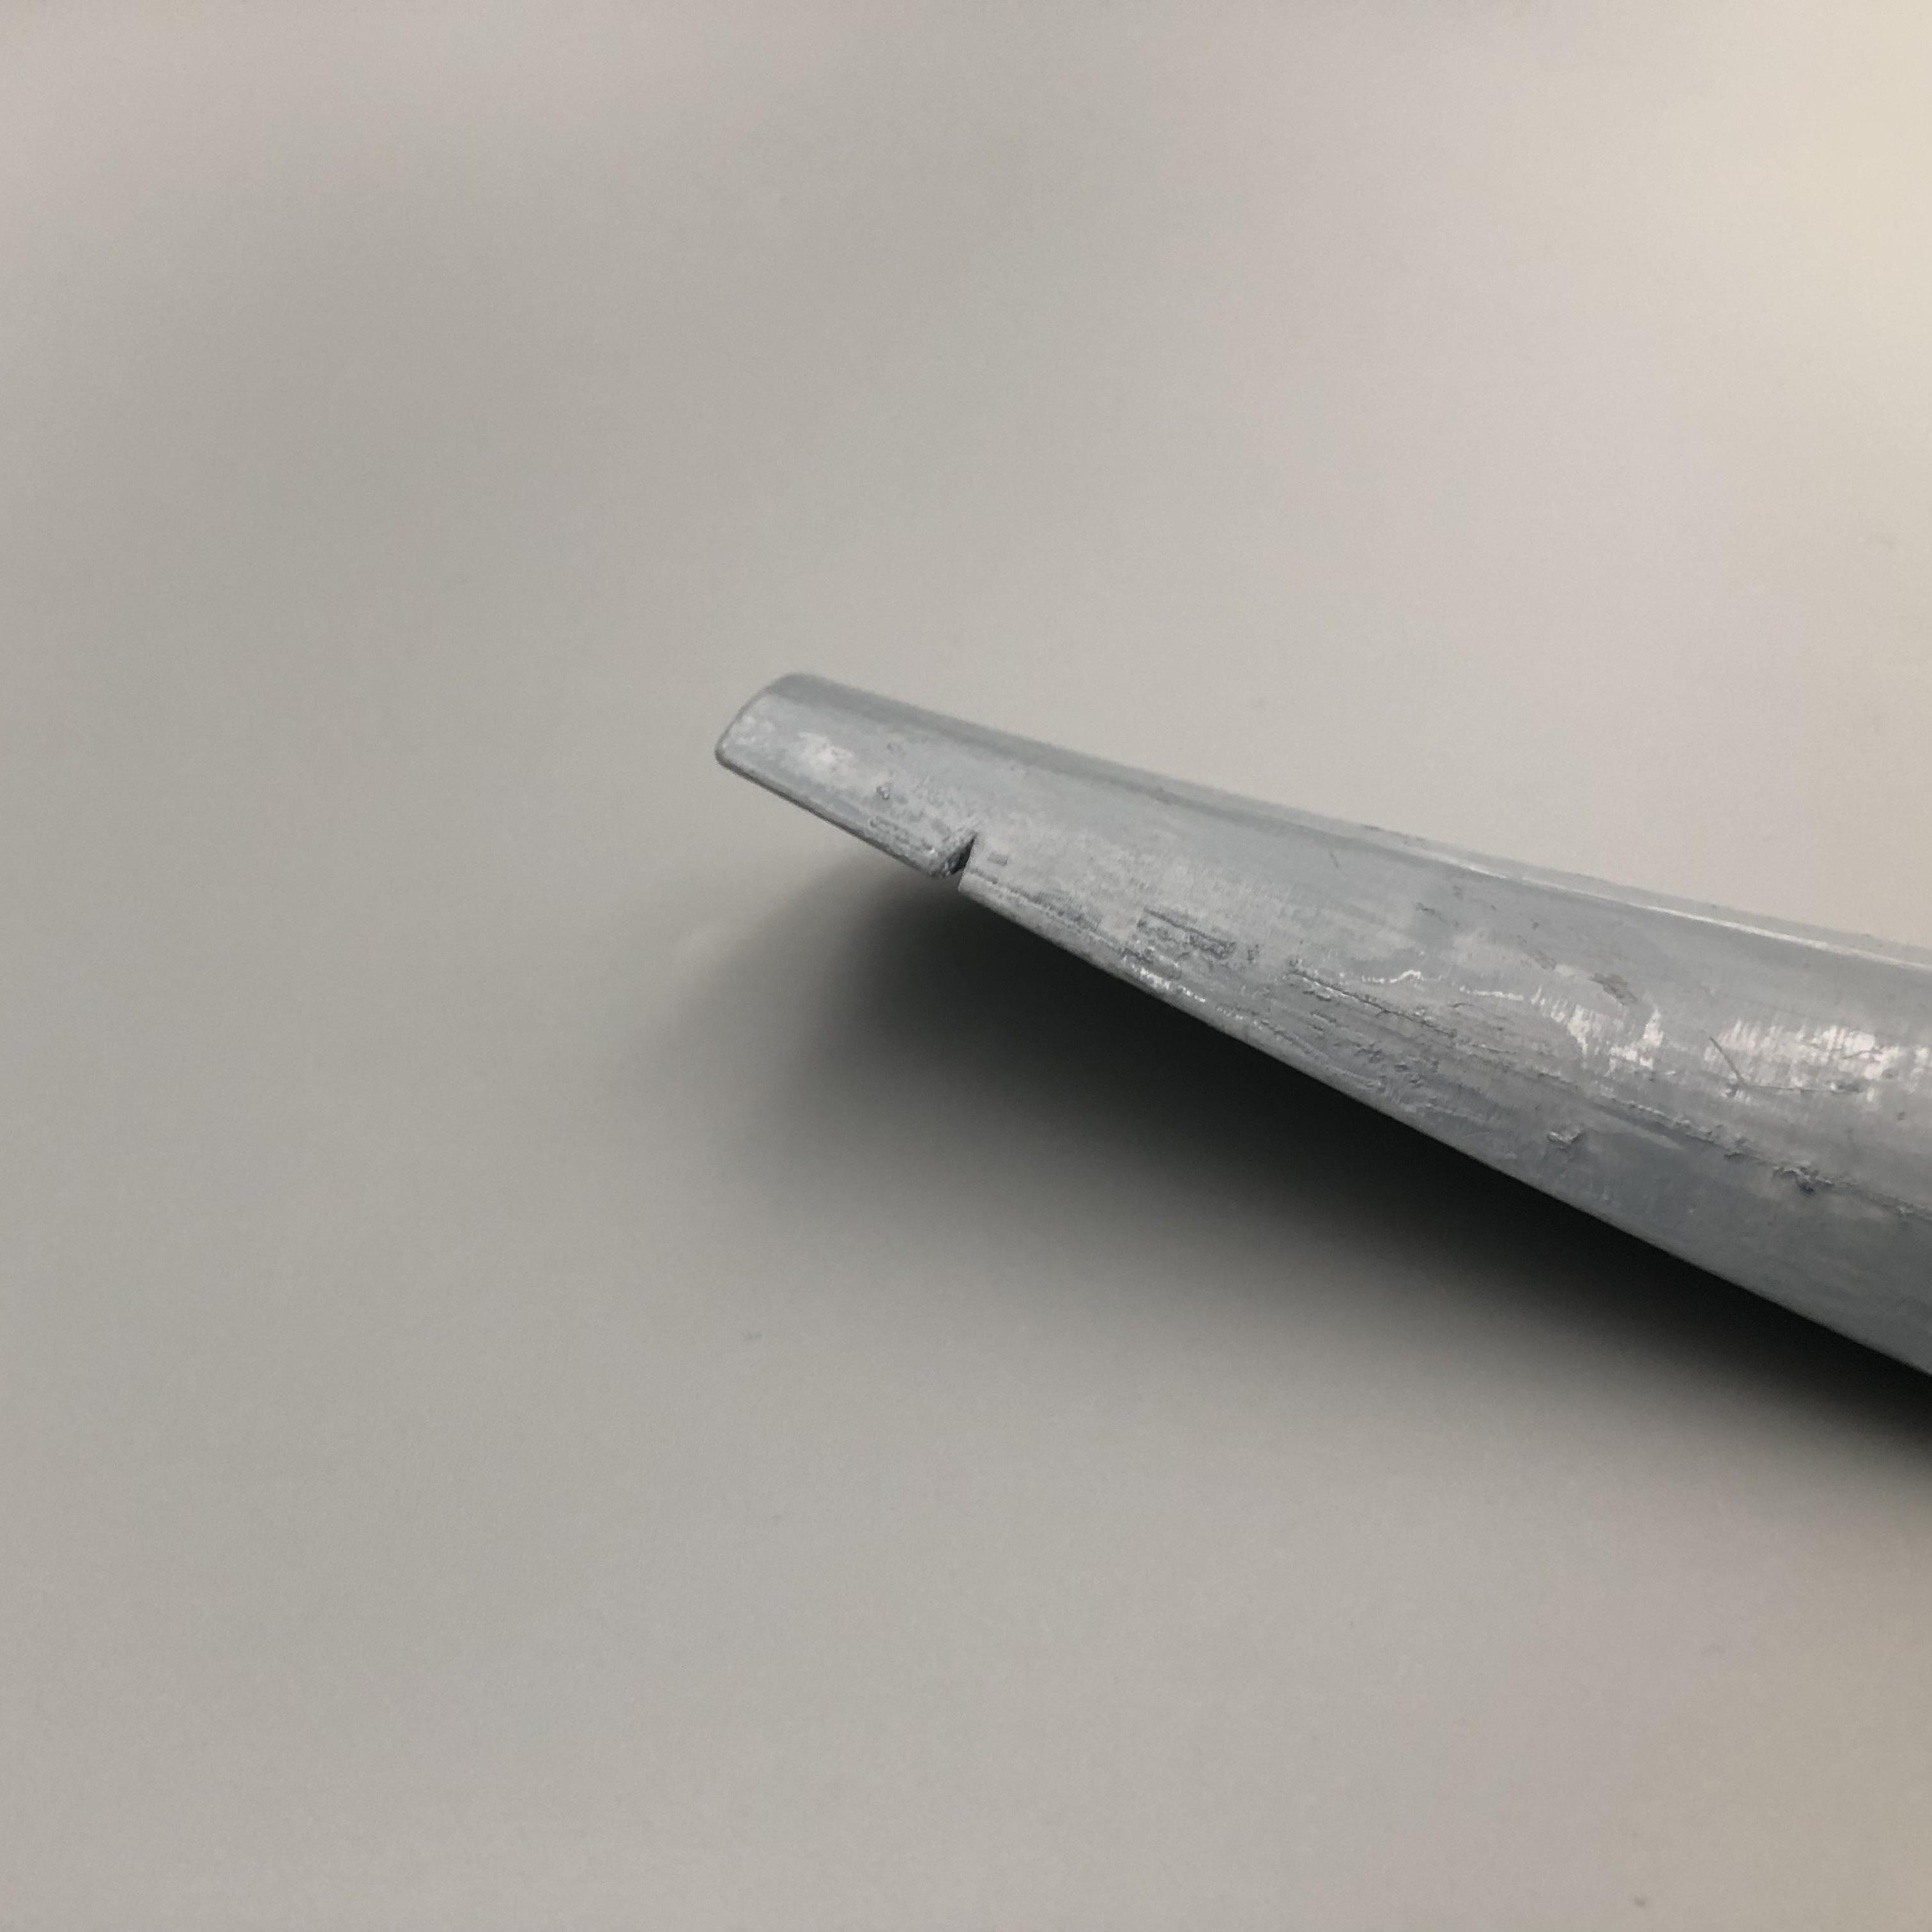groove: (922, 830, 996, 901)
